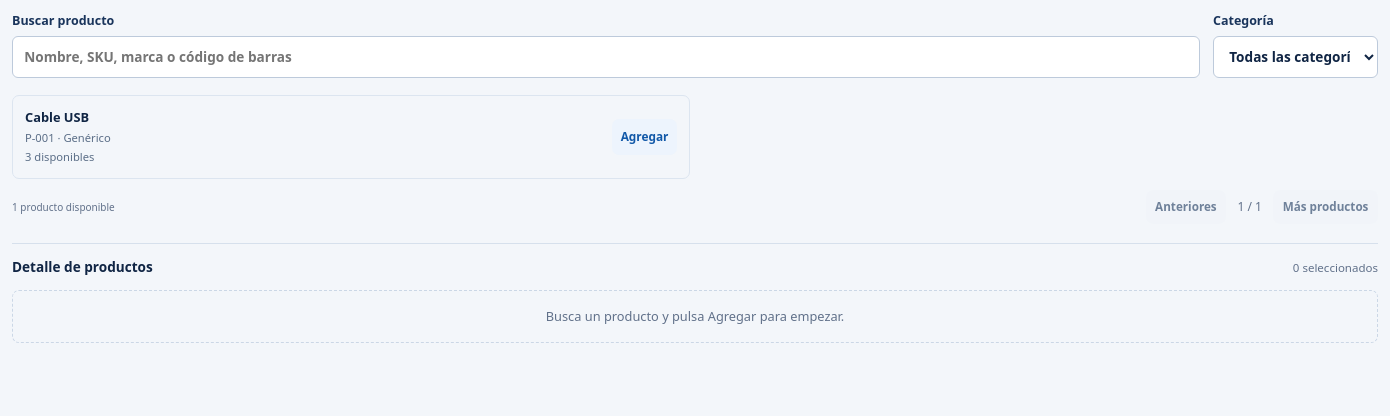
Test: ProductLines › respeta el saldo máximo en una recepción
The image size is (1390, 416).
Click the button with aria-label "Agregar Cable USB" at (644, 137), box [612,119,677,155]
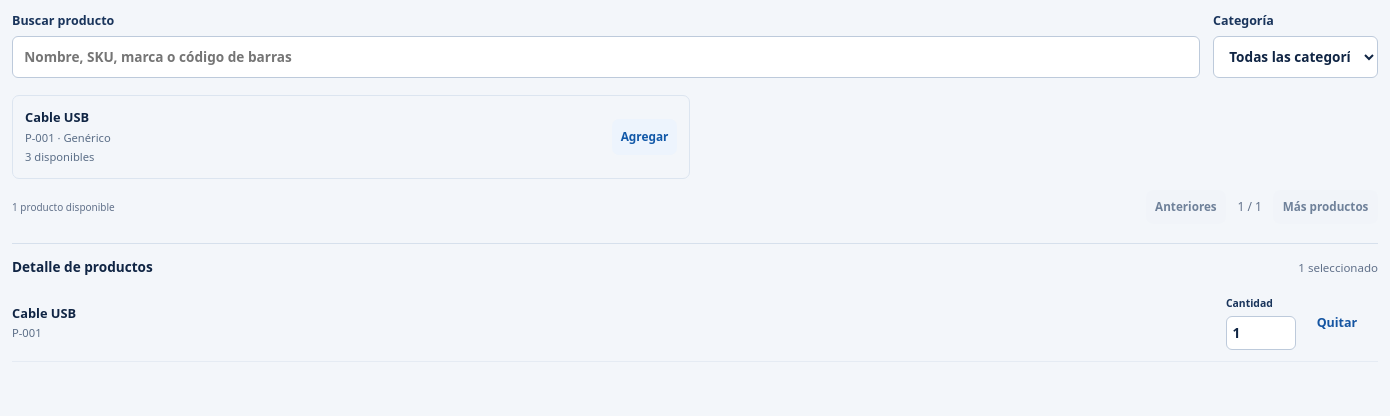
Replace the text in the number field named "Cantidad de Cable USB" with "10" at (1261, 333), box [1226,316,1296,350]
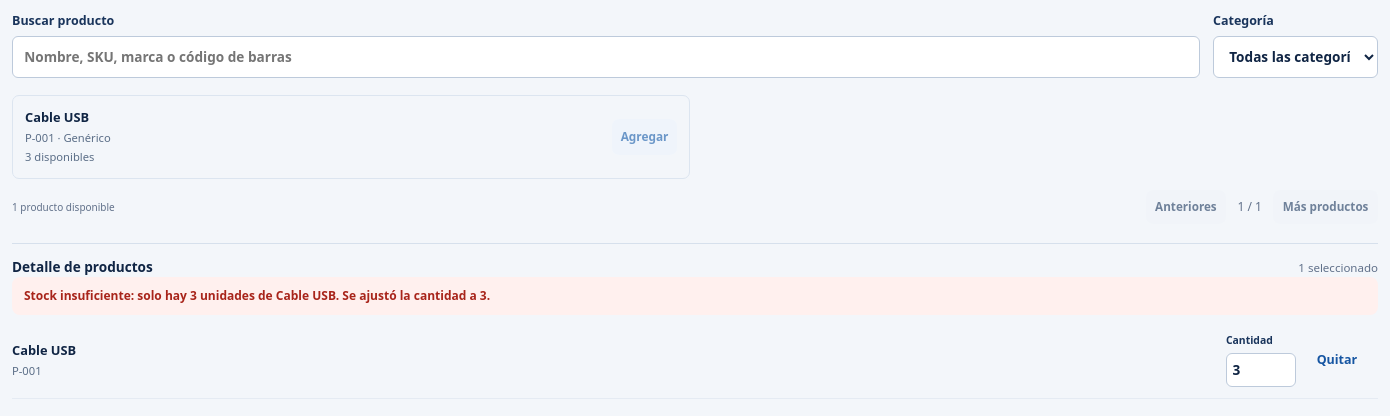
Check: the number field named "Cantidad de Cable USB" holds "3", box [1226,353,1296,387]
